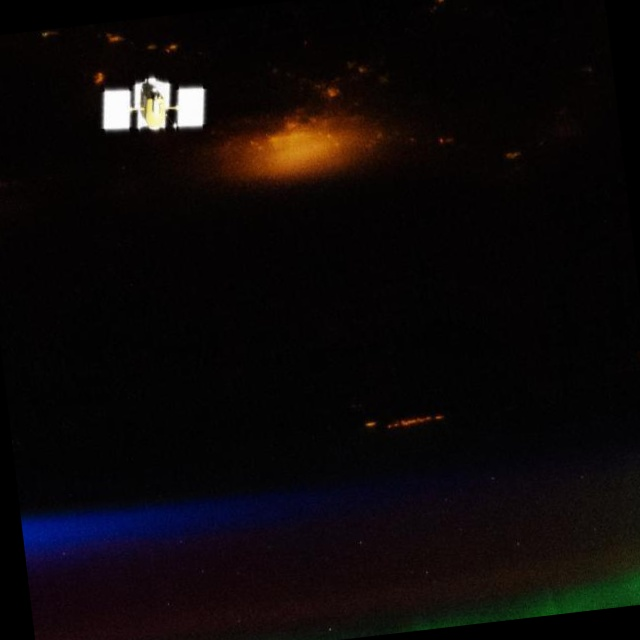satellite: (88, 63, 225, 149)
